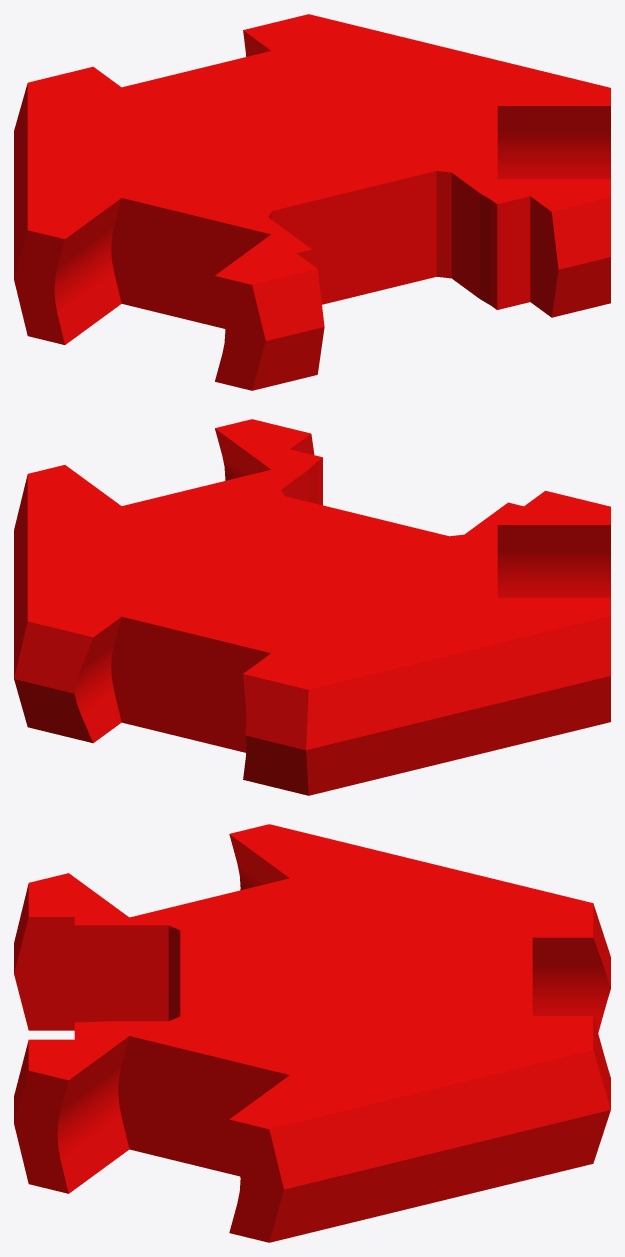
Rendered from Unity Assets - Stab Rave Omni Chassis.dae.
3 views of the same model, one above another, from view 1: azimuth 30°, elevation 25°; view 2: azimuth 150°, elevation 25°; view 3: azimuth 270°, elevation 25° (orthographic). The views are drawn at different scales.
Parts seen in each view (by area): view 1: ID2; view 2: ID2; view 3: ID2.
Part boxes in pixels (<box>): ID2: <box>14,14,610,390</box>; ID2: <box>14,419,610,795</box>; ID2: <box>14,824,610,1242</box>.
Bounding box in the file's own units: 0.1888 × 0.1525 × 0.032.
